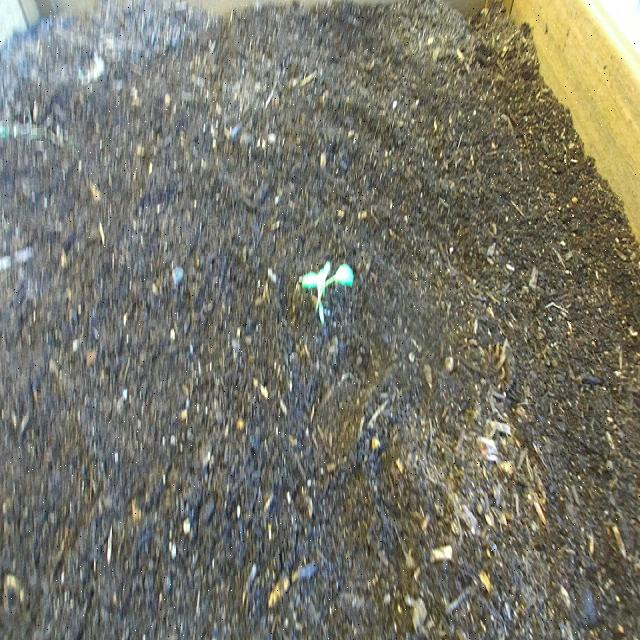Healthy: (297, 254, 358, 328)
